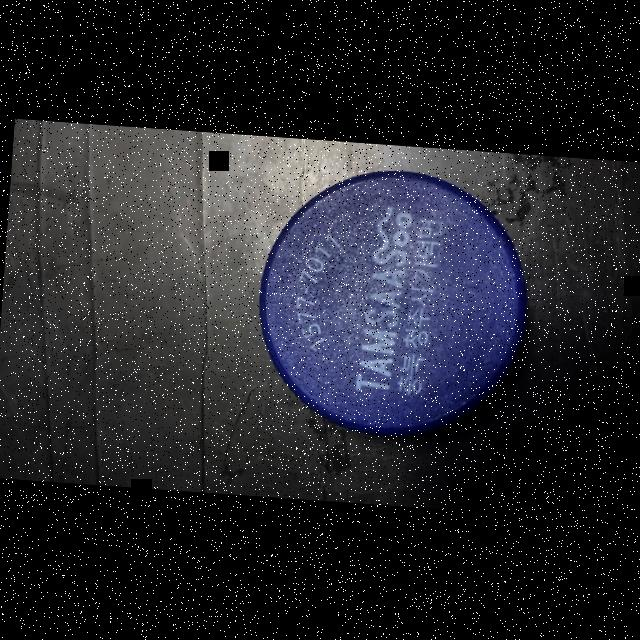plastic_bottle_cap: (240, 156, 540, 454)
